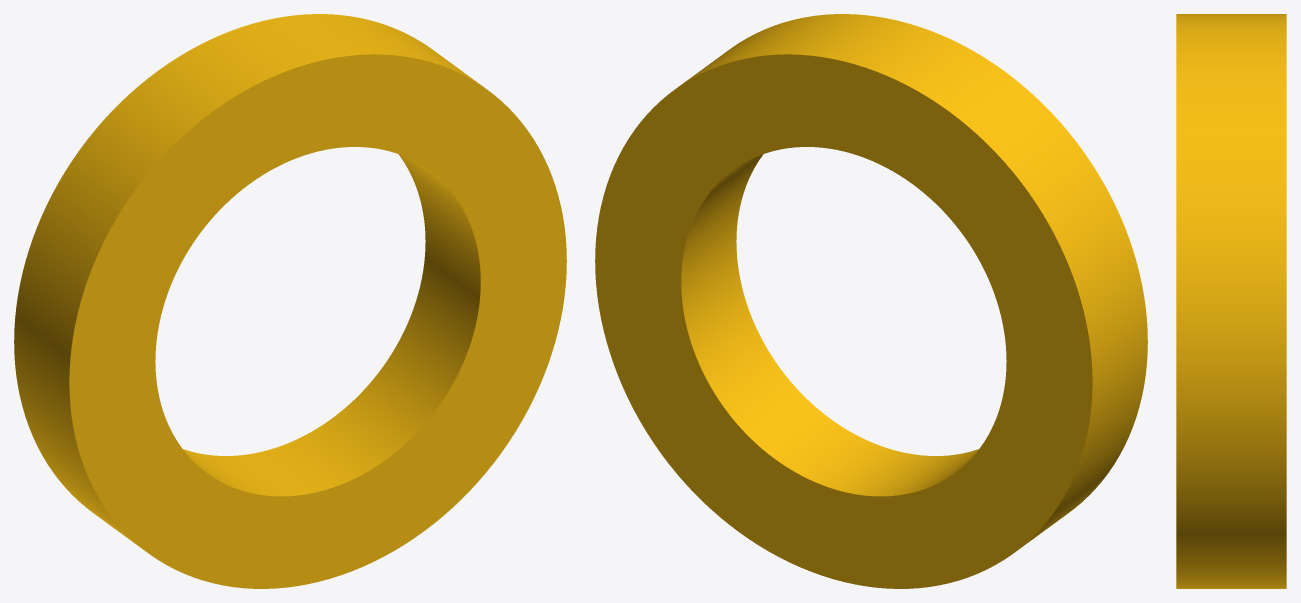
Rendered from bearing17_26_5_balance.gltf.
3 renders of one model, left to right at view 1: azimuth 30°, elevation 25°; view 2: azimuth 150°, elevation 25°; view 3: azimuth 270°, elevation 25°, orthographic.
Parts seen in each view (by area): view 1: mesh32, mesh33, mesh31; view 2: mesh34, mesh33, mesh31; view 3: mesh33.
Part boxes in pixels (x1,y1,x2,y2): mesh32: [69, 54, 566, 588]; mesh33: [14, 14, 482, 549]; mesh31: [183, 154, 480, 496]; mesh34: [595, 54, 1092, 588]; mesh33: [679, 14, 1147, 549]; mesh31: [681, 154, 978, 496]; mesh33: [1176, 14, 1286, 588].
Size of the model in its own units: 0.026 by 0.026 by 0.005.
